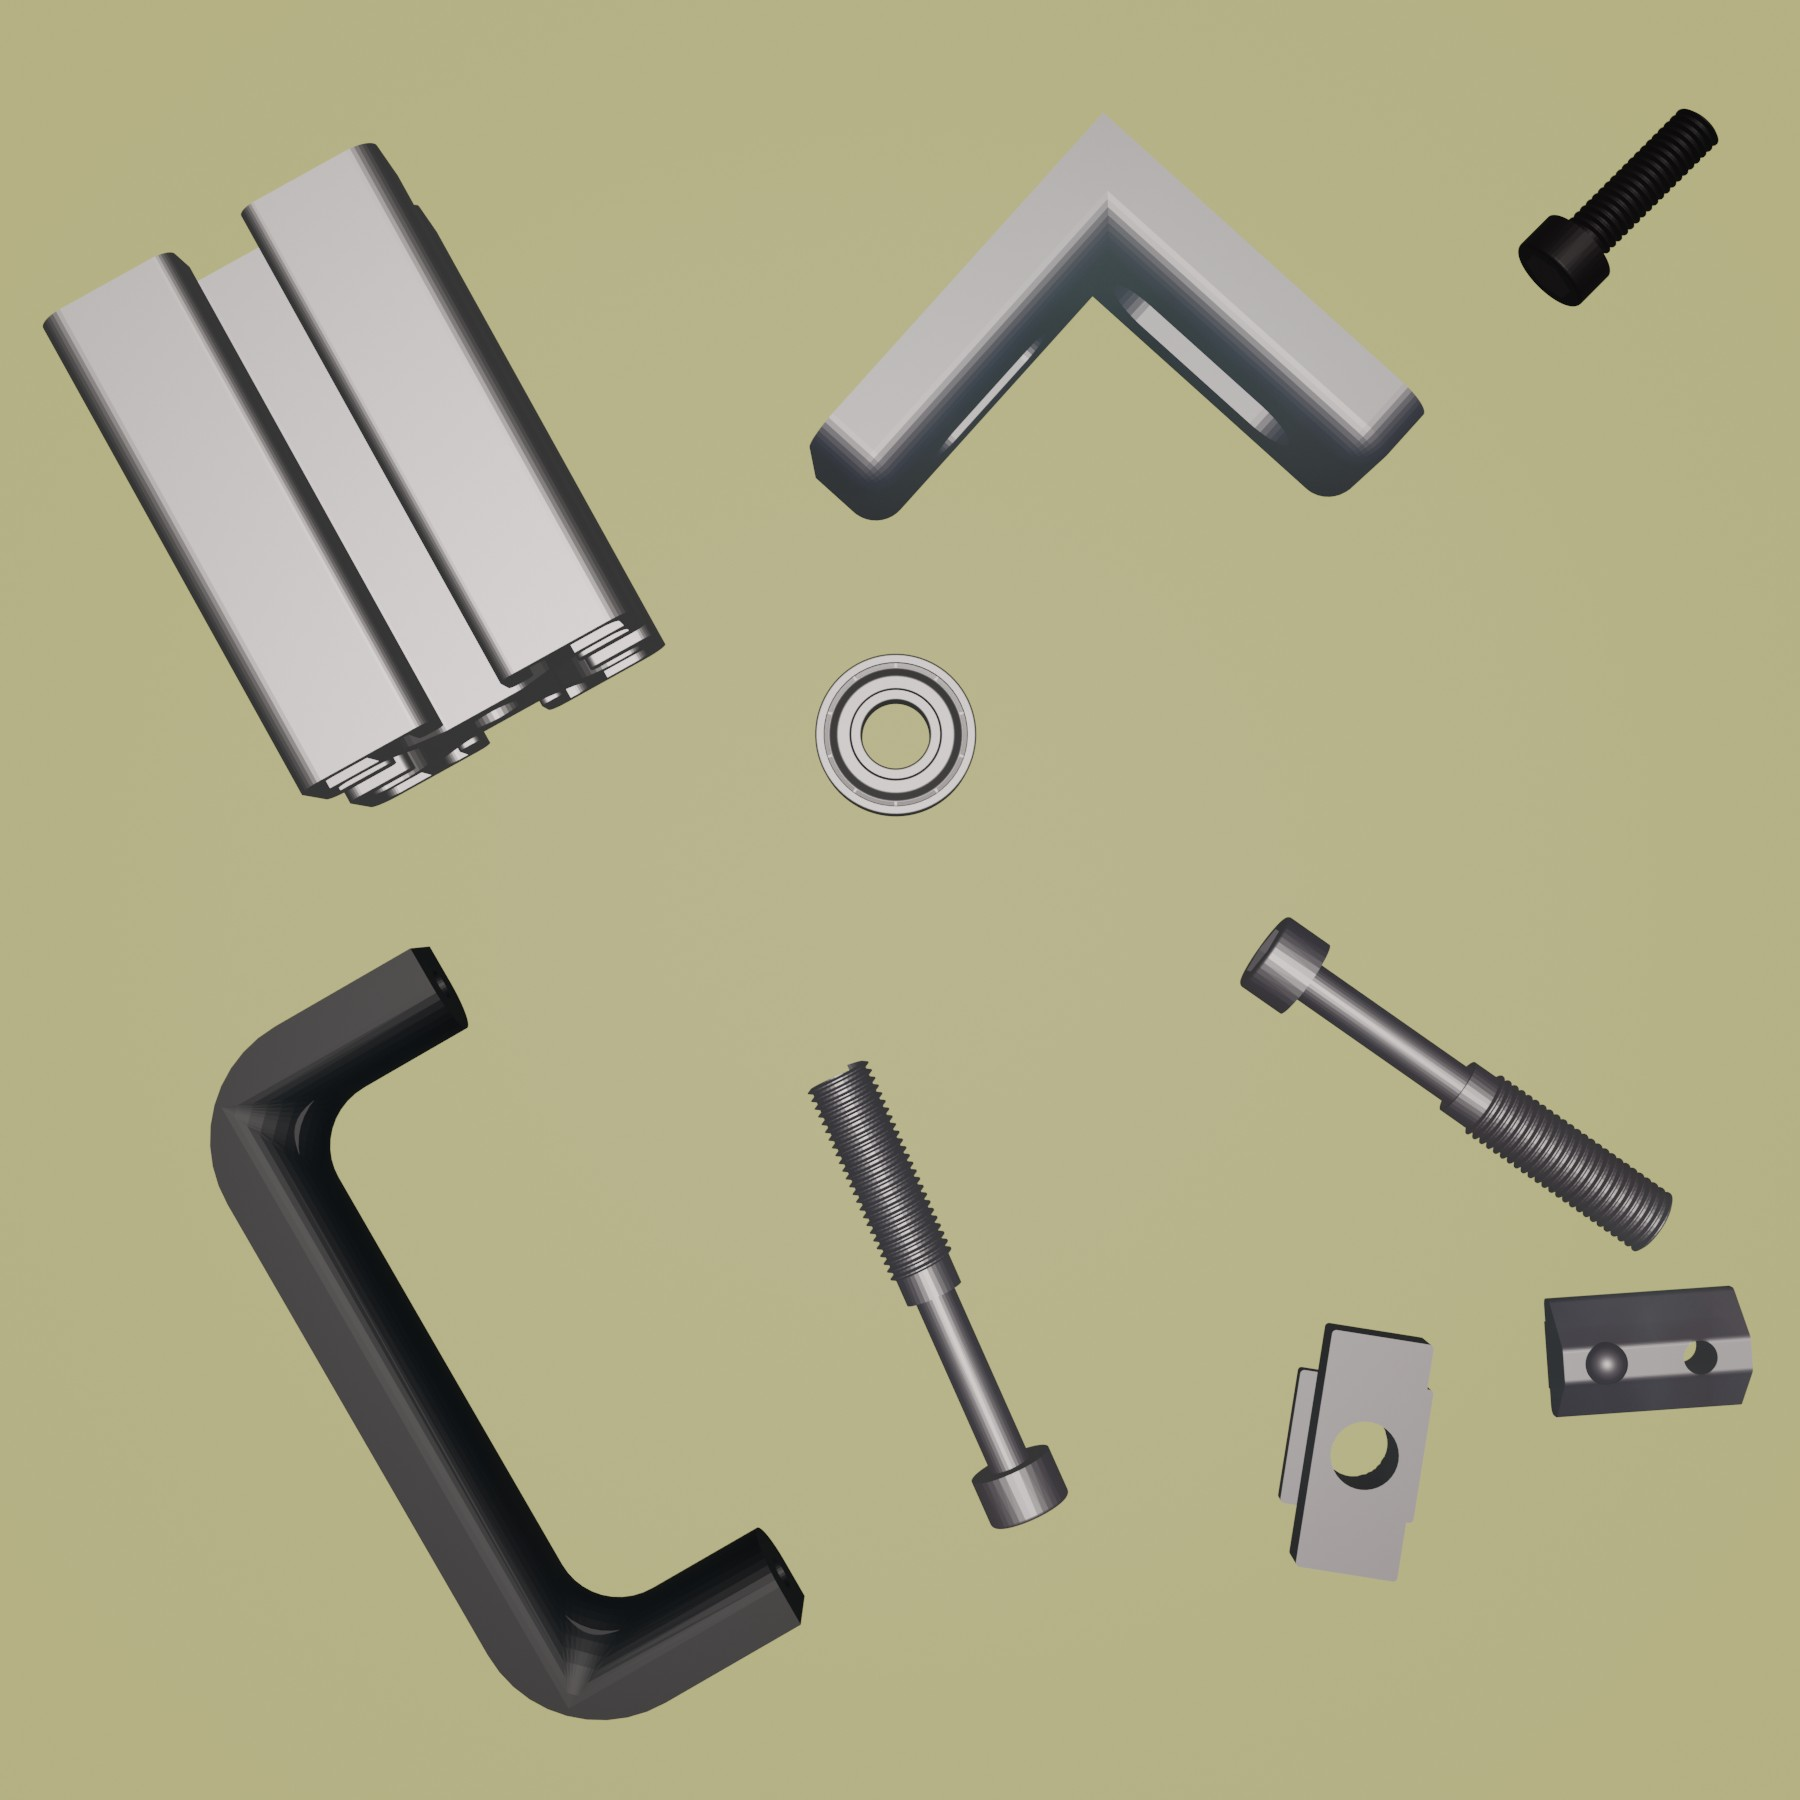Aluminium Extension: (40, 138, 669, 811)
Ball Bearing: (811, 649, 979, 819)
Multiwinkel: (804, 102, 1427, 523)
Pull Handle: (206, 941, 806, 1723)
Shoulder Socket Head Cap Screw: (1240, 916, 1675, 1254), (808, 1058, 1071, 1531)
Socket Head Cap Screw: (1515, 105, 1723, 308)
T Nut Square: (1271, 1319, 1436, 1586)
T Spring Nut: (1540, 1281, 1759, 1419)
